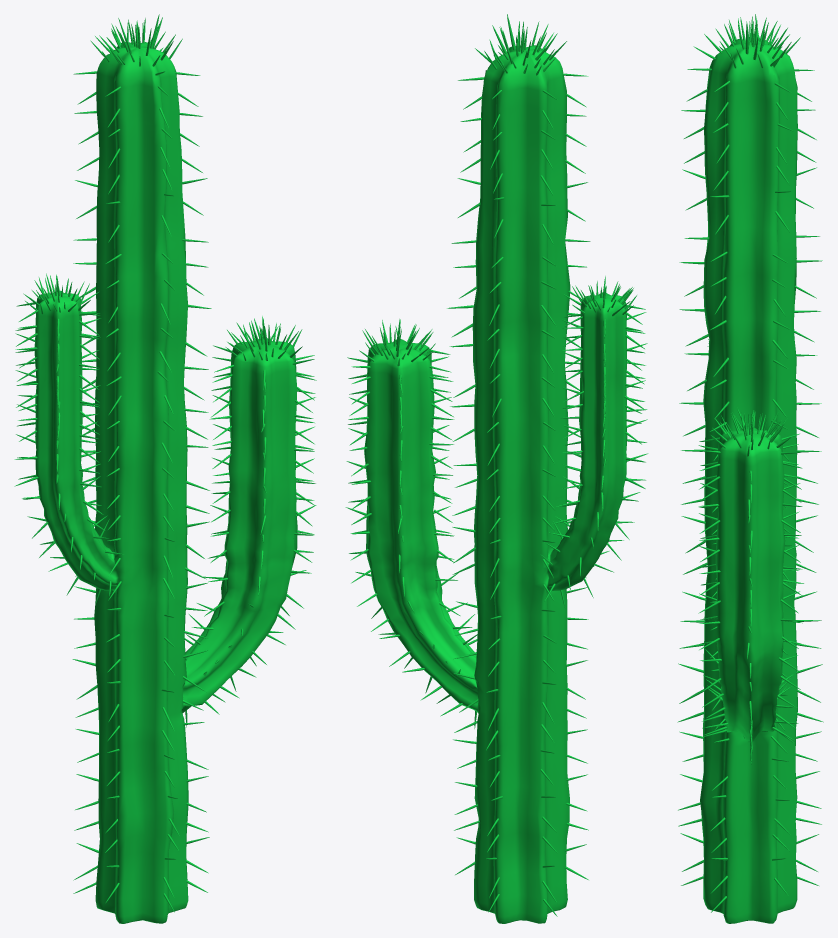
File: kaktus.glb
The picture shows the model from 3 angles, left to right: view 1: azimuth 30°, elevation 25°; view 2: azimuth 150°, elevation 25°; view 3: azimuth 270°, elevation 25°; orthographic projection.
Visible parts, largest first — view 1: node_id147; view 2: node_id147; view 3: node_id147.
Part boxes in pixels (x1,y1,x2,y2): node_id147: [14, 14, 316, 923]; node_id147: [345, 14, 648, 923]; node_id147: [677, 14, 823, 923].
Bounding box in the file's own units: 0.1815 × 0.512 × 0.0762.
Materials: 1 (1 with a texture image).
